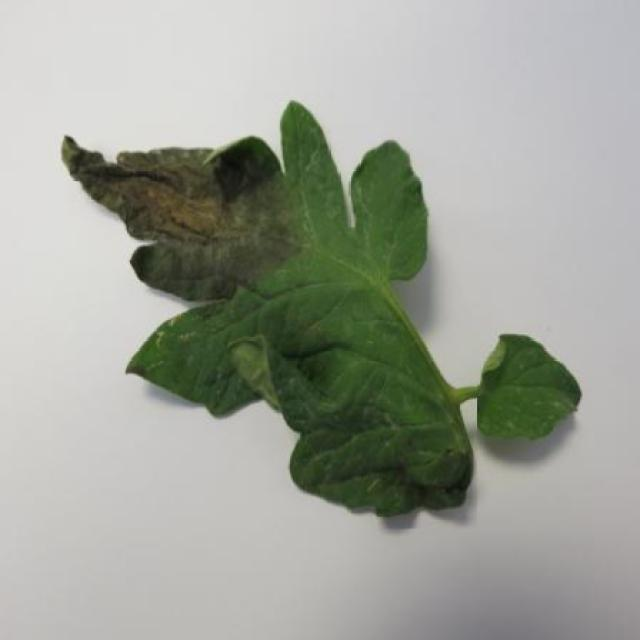Late Blight: (49, 96, 478, 528)
